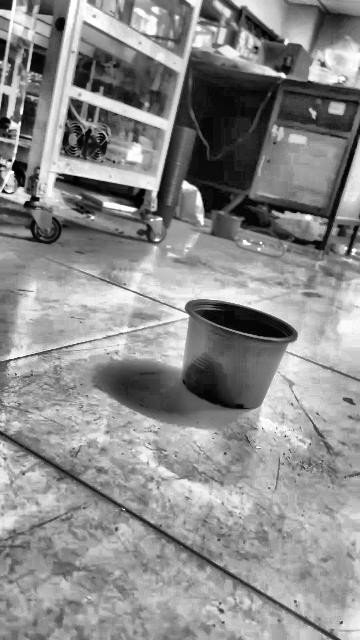pot: (183, 300, 297, 409)
